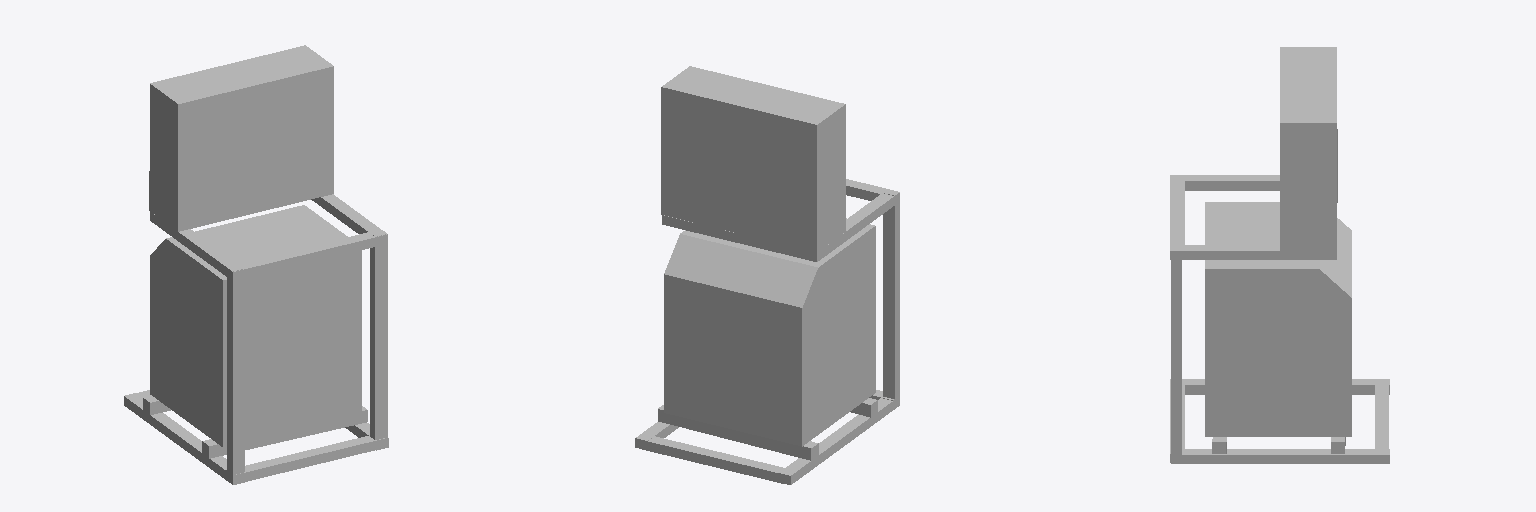
File: maschine_with_case.obj
The picture shows the model from 3 angles: view 1: azimuth 30°, elevation 25°; view 2: azimuth 150°, elevation 25°; view 3: azimuth 270°, elevation 25°; orthographic projection.
Parts seen in each view (by area): view 1: Main_Part, Block, Cube.007, Cube.006, Cube.004, Cube.009, Cube.008, Cube.013, Cube.002, Cube.003; view 2: Main_Part, Block, Cube.007, Cube.011, Cube.008, Cube.012, Cube.002, Cube.005, Cube.004, Cube.010; view 3: Main_Part, Block, Cube.010, Cube.006, Cube.003, Cube.002, Cube.004, Cube.011, Cube.008.
Boxes of the visible parts, <box> form: Main_Part: <box>150,205,361,447</box>; Block: <box>149,45,333,231</box>; Cube.007: <box>227,265,244,484</box>; Cube.006: <box>370,230,387,439</box>; Cube.004: <box>233,232,386,281</box>; Cube.009: <box>226,435,386,484</box>; Cube.008: <box>124,393,244,484</box>; Cube.013: <box>202,406,367,458</box>; Cube.002: <box>150,212,243,276</box>; Cube.003: <box>311,194,387,243</box>; Main_Part: <box>664,218,875,446</box>; Block: <box>661,66,845,252</box>; Cube.007: <box>883,189,899,408</box>; Cube.011: <box>642,436,784,483</box>; Cube.008: <box>778,398,898,484</box>; Cube.012: <box>658,405,818,460</box>; Cube.002: <box>805,193,894,261</box>; Cube.005: <box>672,217,804,258</box>; Cube.004: <box>846,179,893,200</box>; Cube.010: <box>635,422,678,450</box>; Main_Part: <box>1205,202,1351,436</box>; Block: <box>1280,47,1337,250</box>; Cube.010: <box>1171,449,1389,463</box>; Cube.006: <box>1171,245,1181,454</box>; Cube.003: <box>1171,245,1336,259</box>; Cube.002: <box>1182,175,1279,190</box>; Cube.004: <box>1170,175,1184,259</box>; Cube.011: <box>1375,385,1388,448</box>; Cube.008: <box>1185,379,1389,394</box>.
Bounding box in the file's own units: 0.6979 × 1.46 × 0.8468.